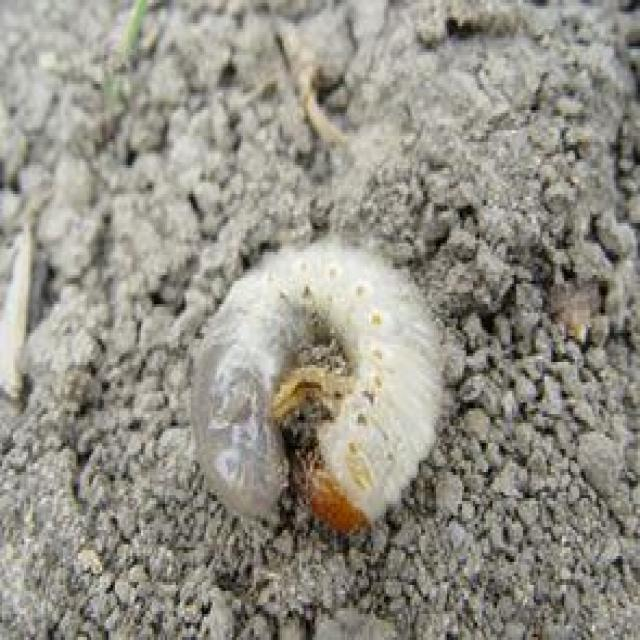Grub-Adult-: (174, 234, 459, 541)
